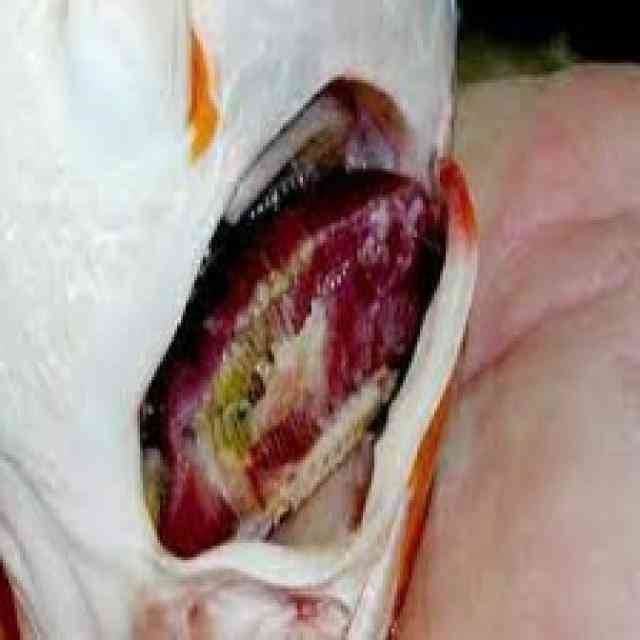Gill Disease: (93, 30, 479, 640)
